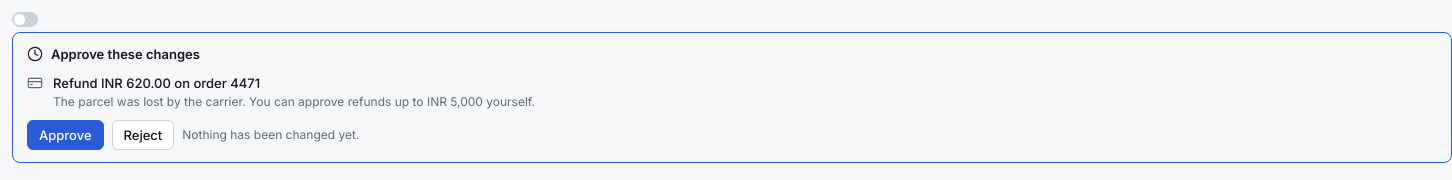
Test: an approval that is slow or fails › cannot be approved twice while the first approval is under way
Click the button "Approve".
click(65, 135)  # box [27,120,104,150]
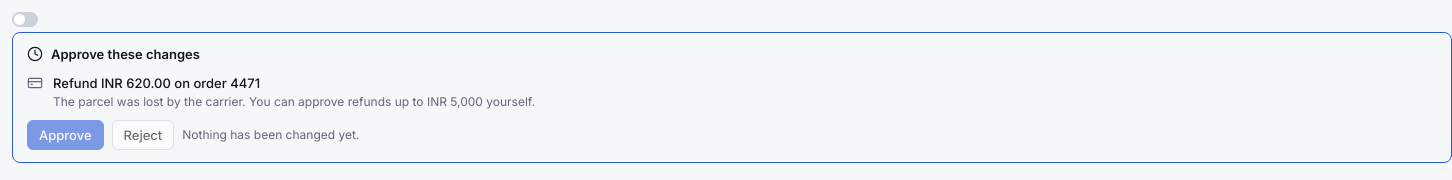
Click the button "Approve".
click(65, 135)  # box [27,120,104,150]
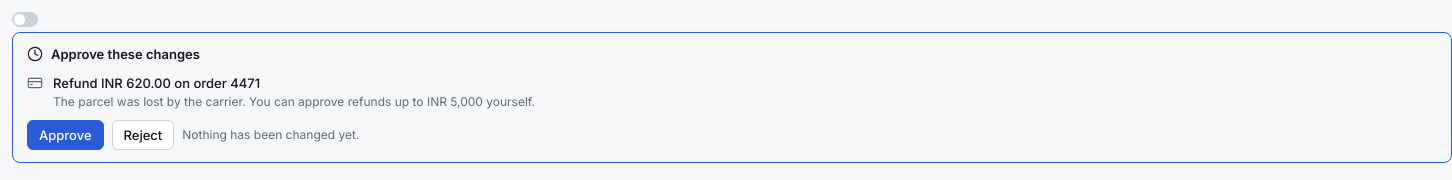
Now the button "Approve" is enabled, box [27,120,104,150]
